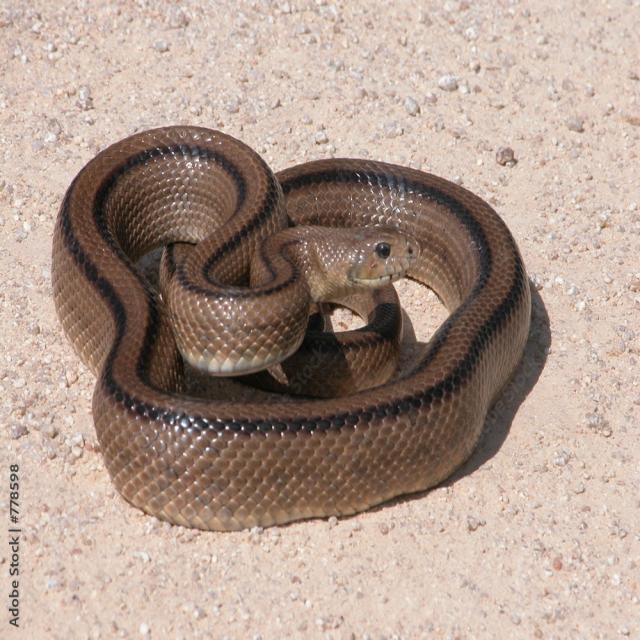Snake: (35, 96, 552, 538)
